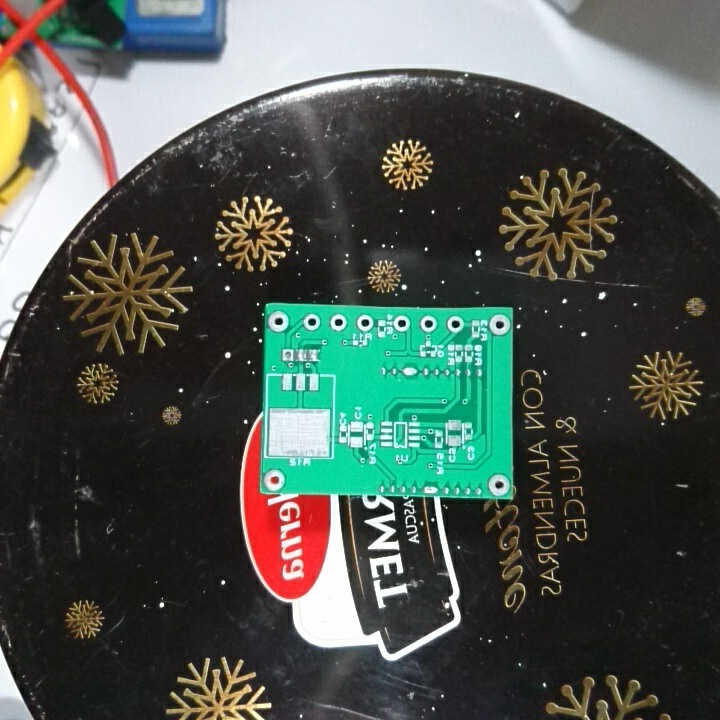F: (261, 466, 289, 494), (485, 470, 510, 497), (268, 309, 292, 334), (487, 310, 507, 339), (445, 313, 467, 337), (354, 312, 375, 334), (327, 312, 348, 334), (417, 314, 438, 335), (302, 312, 324, 332), (392, 313, 412, 332), (279, 346, 296, 365)
P: (401, 363, 421, 383), (421, 483, 441, 496)
